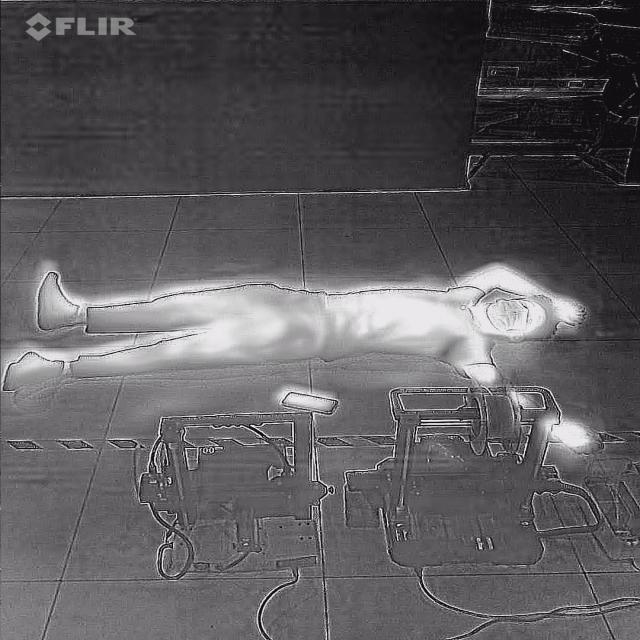Victim: (4, 258, 596, 451)
